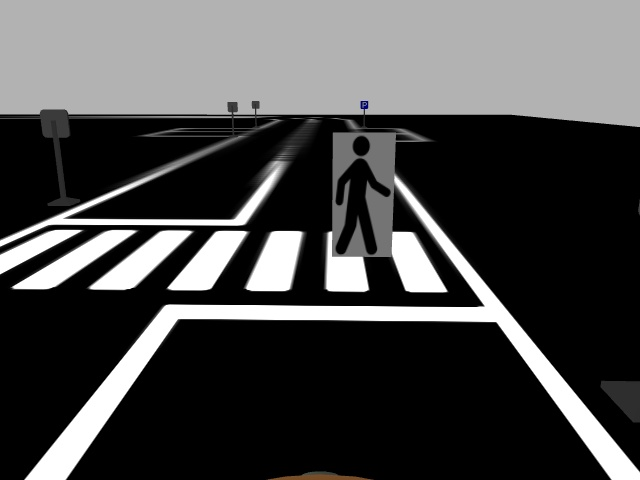parking: (359, 99, 370, 110)
pedestrian: (330, 128, 394, 260)
